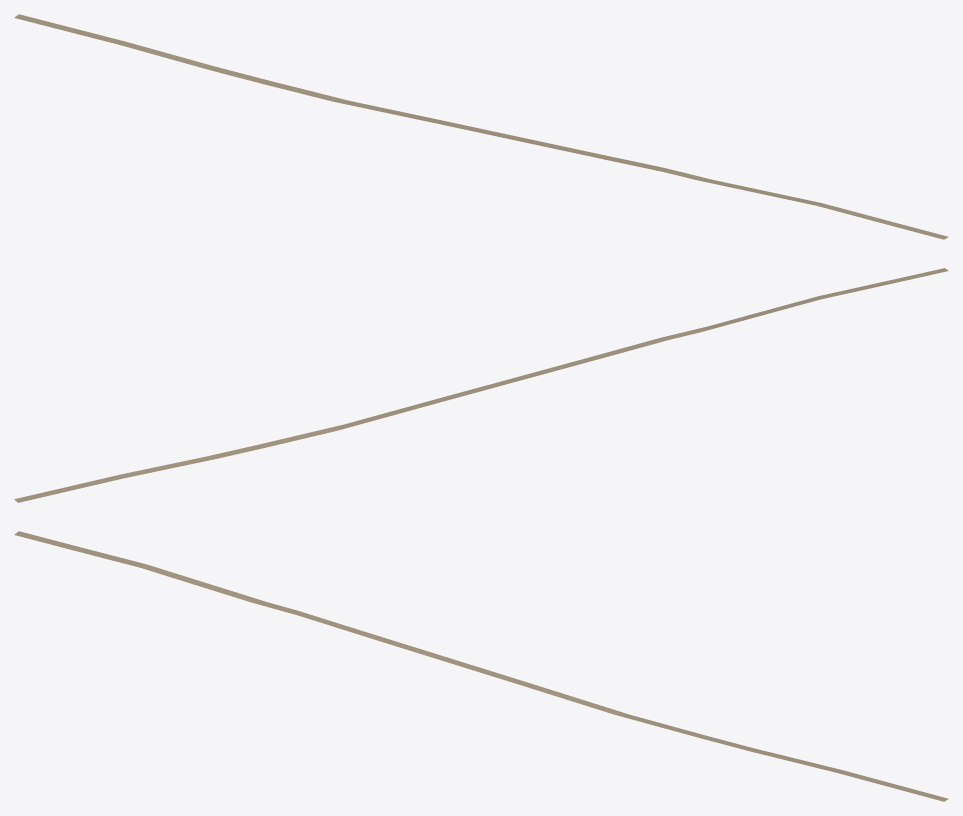
The model's file is farm_5_-4_track.glb.
3 renders of one model, top to bottom at view 1: azimuth 90°, elevation 25°; view 2: azimuth 150°, elevation 25°; view 3: azimuth 270°, elevation 25°, orthographic. The views are drawn at different scales.
Visible parts, largest first — view 1: geometry_0; view 2: geometry_0; view 3: geometry_0.
Part boxes in pixels (x1,y1,x2,y2): geometry_0: [14, 14, 948, 239]; geometry_0: [14, 268, 948, 502]; geometry_0: [14, 531, 948, 801].
Bounding box in the file's own units: 208 × 9.4 × 331.
